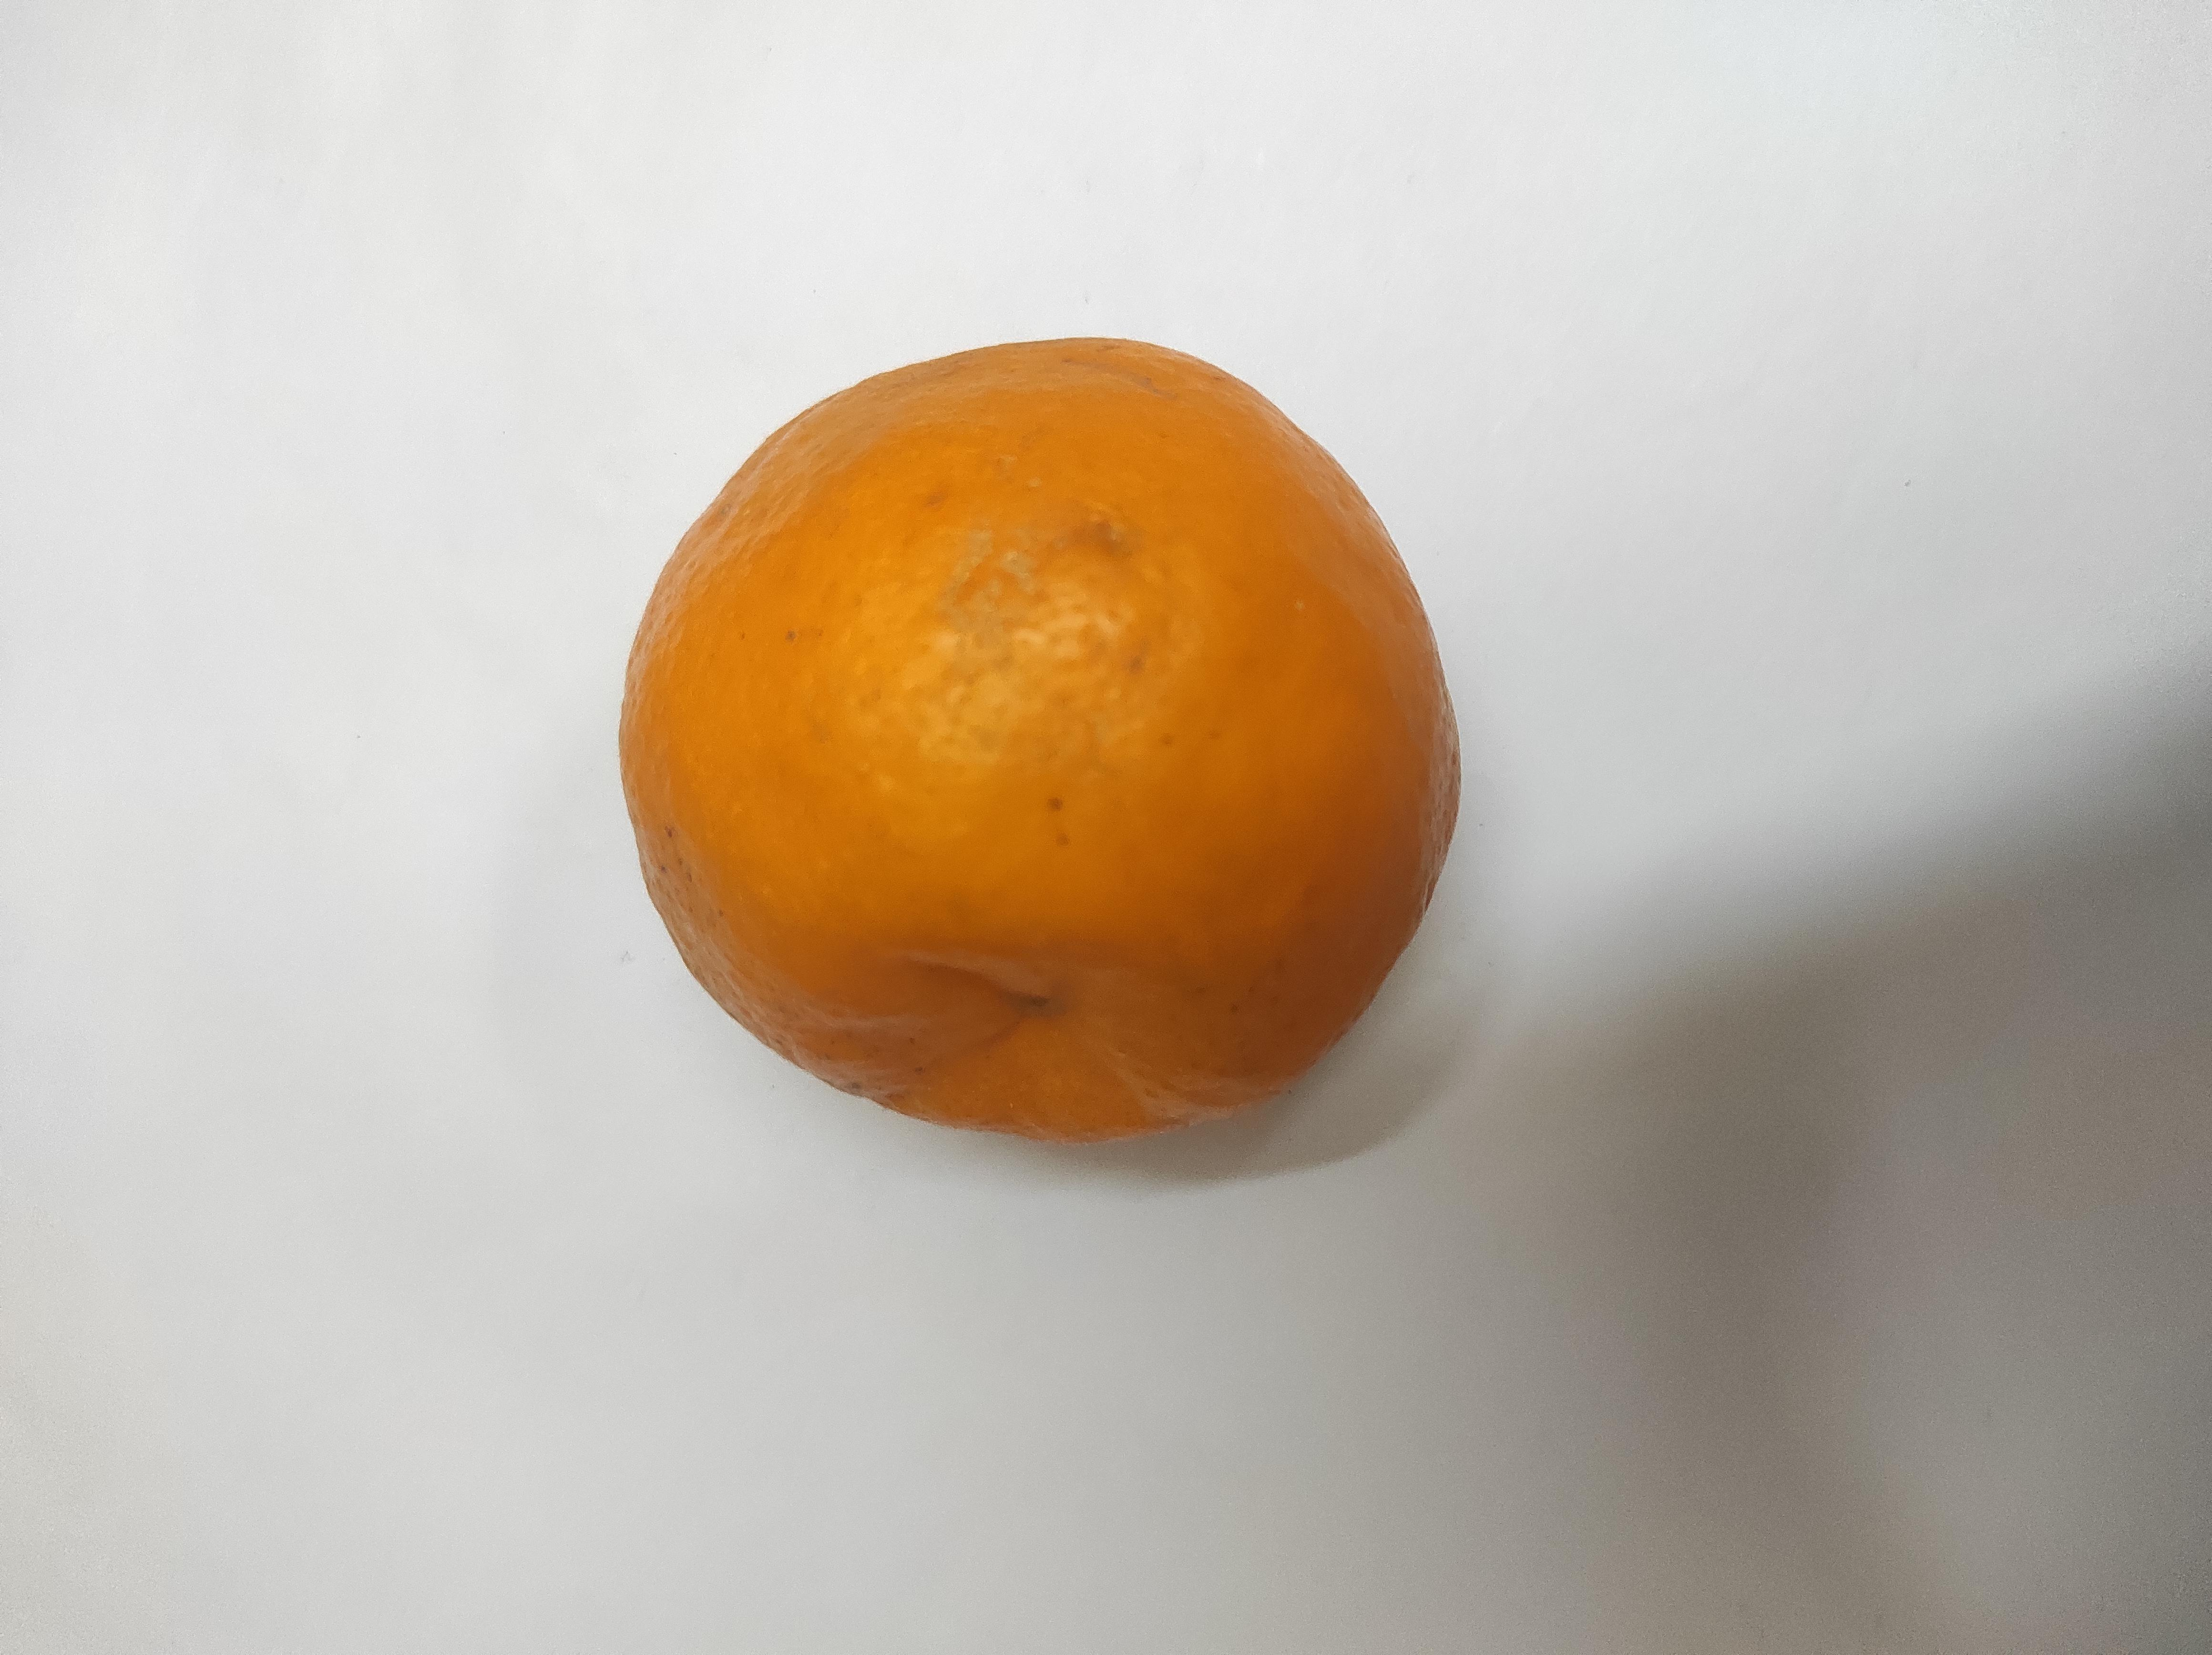Unripe: (616, 339, 1459, 1139)
